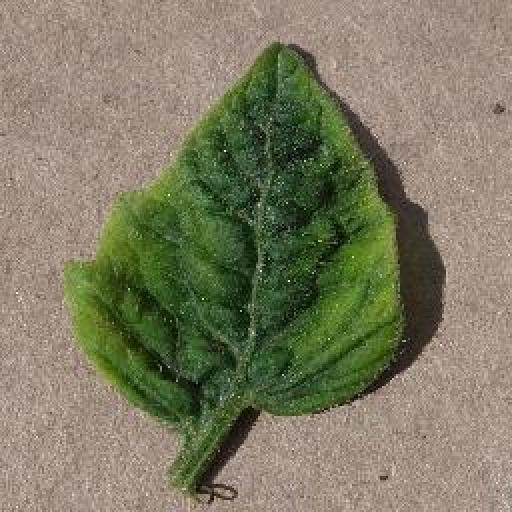disease_tomato: (66, 44, 410, 432)
